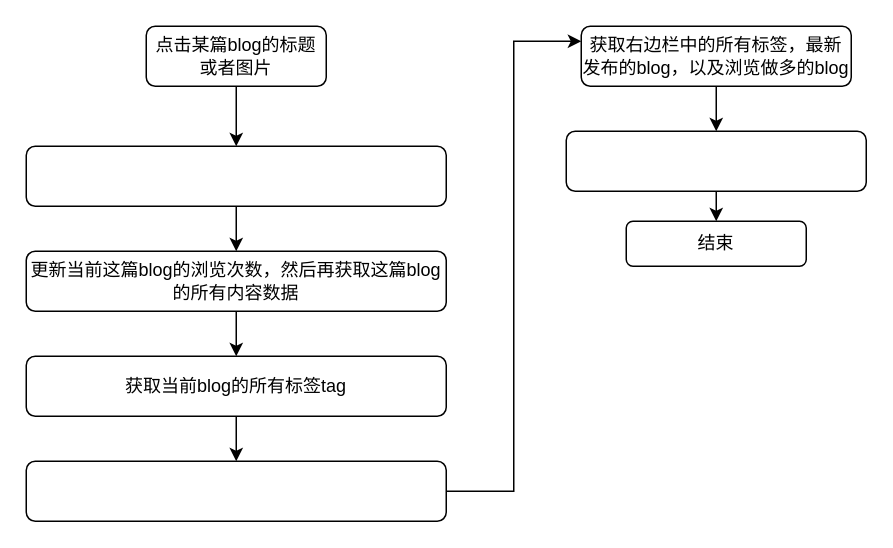
Image size: 893x548. Some labels were removed from this diagram. The centre of each missing label's shape, as x and y in pixels:
"发送请求/blog/detail,其中会携带参数id=xxx&currentPage=yyy&pageSize=xxx,并且这3个参数的默认值为1" goes at point 235,175.
"将数据添加到modelAndView中，然后再返回到对应的页面进行渲染" goes at point 715,160.
"获取当前blog的所有评论数据，并且对每一条评论，需要获取发布评论的用户的icon,nickname" goes at point 235,490.
